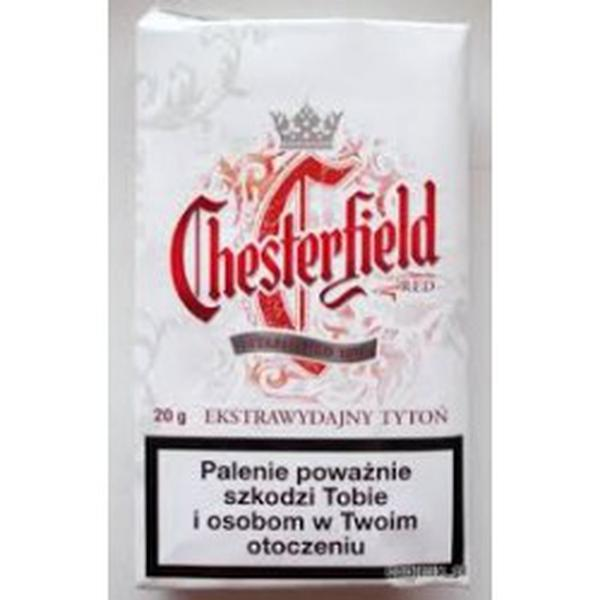chesterfield_red: (138, 34, 465, 586)
